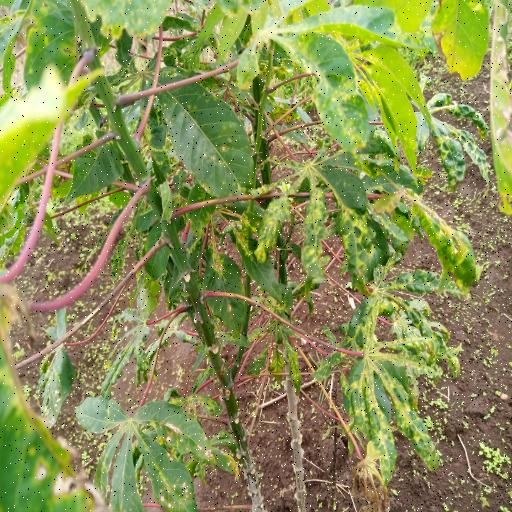Cassava_Mosaic: (276, 161, 473, 280), (350, 278, 452, 480), (74, 383, 236, 508)
